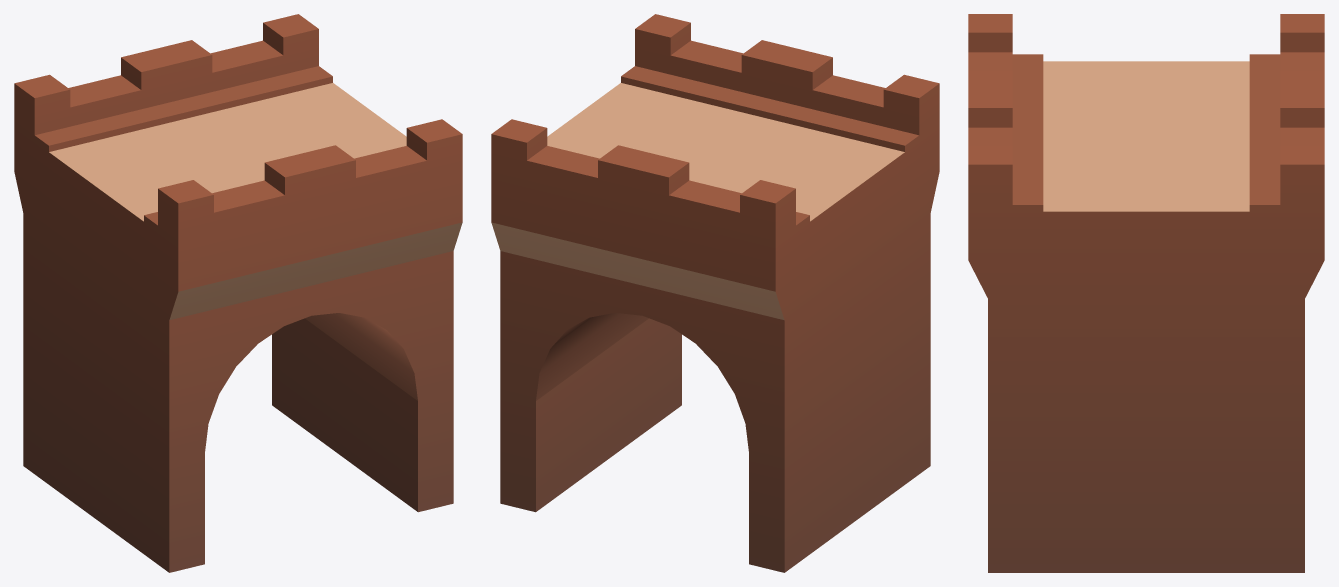
The model's file is stone_bridge.glb.
3 views of the same model, side by side, from view 1: azimuth 30°, elevation 25°; view 2: azimuth 150°, elevation 25°; view 3: azimuth 270°, elevation 25° (orthographic). The views are drawn at different scales.
Parts seen in each view (by area): view 1: bridge-straight; view 2: bridge-straight; view 3: bridge-straight.
Part boxes in pixels (x1,y1,x2,y2): bridge-straight: (14, 14, 462, 572); bridge-straight: (491, 14, 939, 572); bridge-straight: (968, 14, 1324, 572).
Size of the model in its own units: 0.93 by 1.18 by 0.93.
Materials: 1 (1 with a texture image).
